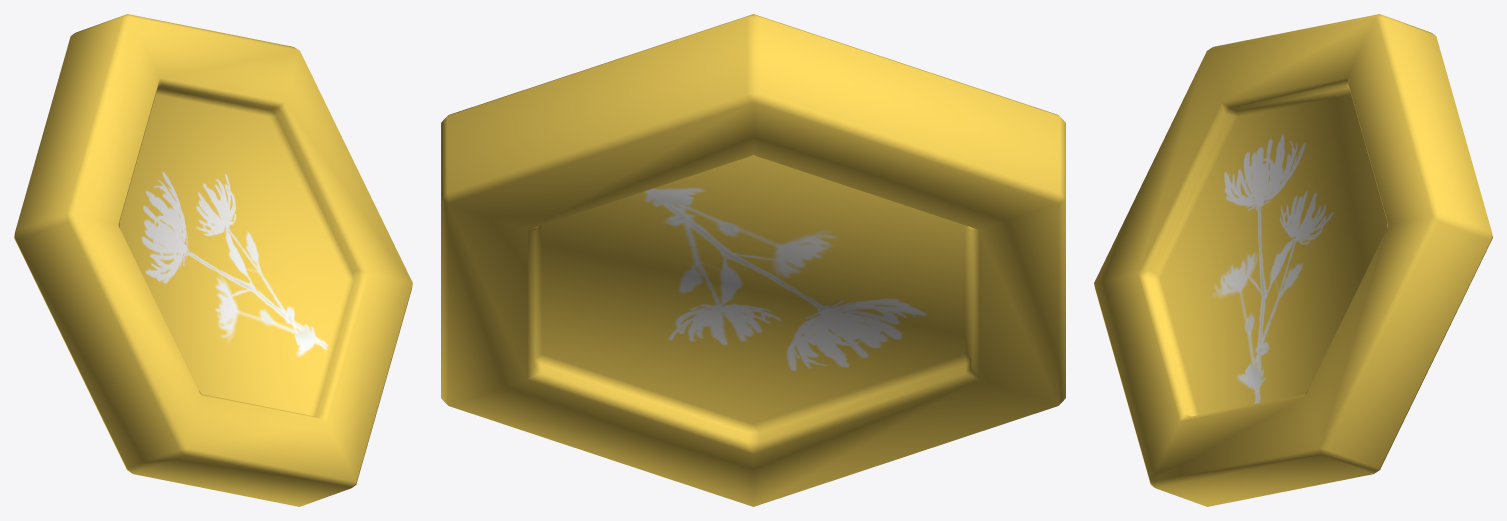
Rendered from chrysanthemum.glb.
The picture shows the model from 3 angles, left to right: view 1: azimuth 30°, elevation 25°; view 2: azimuth 150°, elevation 25°; view 3: azimuth 270°, elevation 25°; orthographic projection. The views are drawn at different scales.
Visible parts, largest first — view 1: Cylinder.001; view 2: Cylinder.001; view 3: Cylinder.001.
Boxes of the visible parts, x1,y1,x2,y2 form: Cylinder.001: (14, 14, 412, 506); Cylinder.001: (441, 14, 1065, 506); Cylinder.001: (1094, 14, 1492, 506).
Bounding box in the file's own units: 1.85 × 1.84 × 1.49.
Materials: 1 (1 with a texture image).
